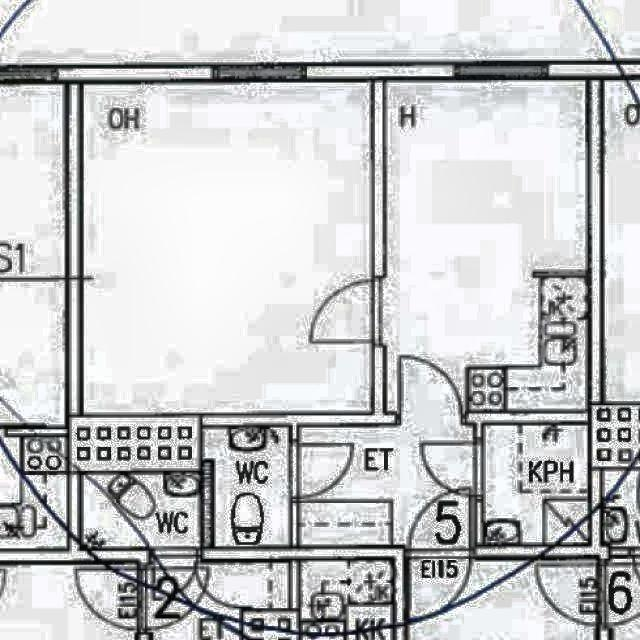room: (81, 84, 372, 413), (386, 82, 587, 411), (299, 426, 474, 546), (483, 425, 588, 545), (202, 426, 290, 547), (81, 475, 200, 548)
